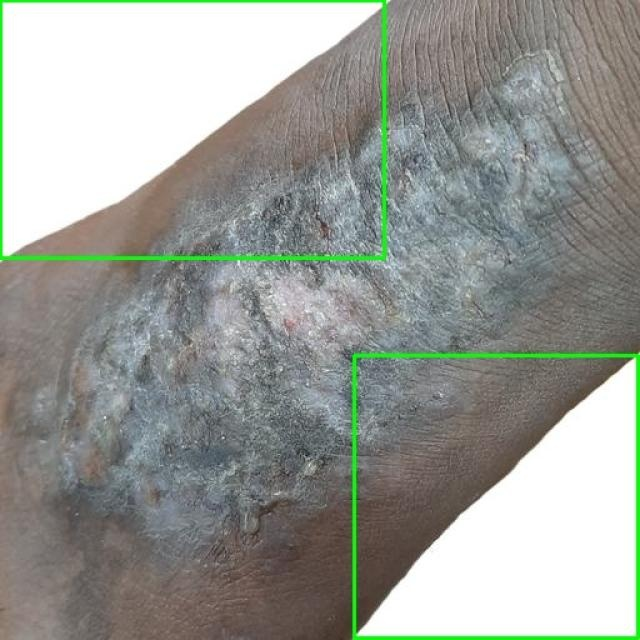Contact Dermatitis: (0, 0, 384, 258), (355, 356, 639, 639)
